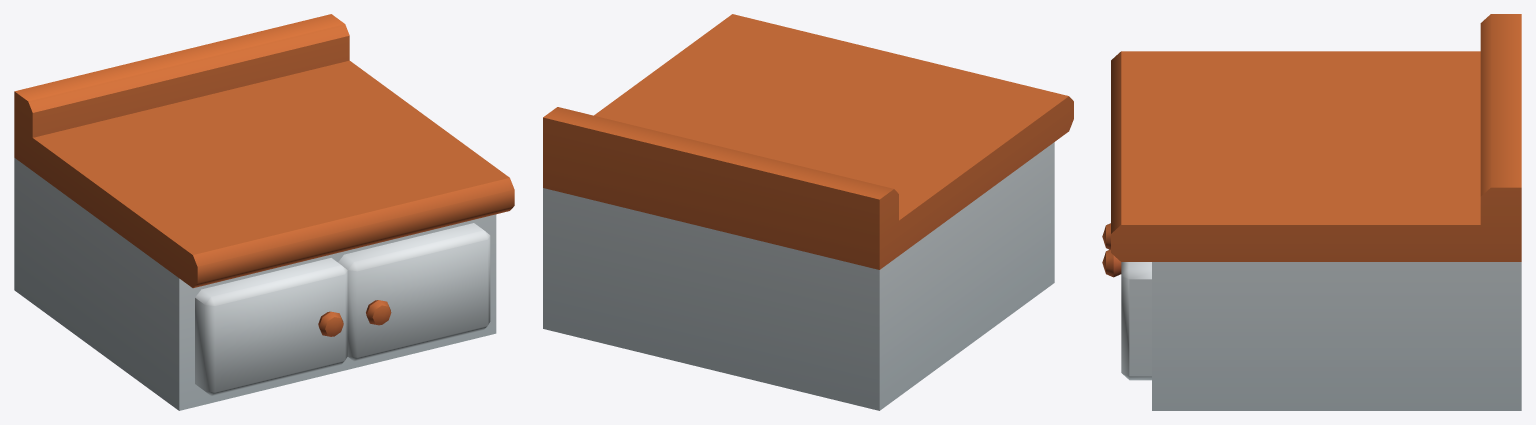
The model's file is kay-kitchencounter_straight_b_backsplash.glb.
The picture shows the model from 3 angles, left to right: view 1: azimuth 30°, elevation 25°; view 2: azimuth 150°, elevation 25°; view 3: azimuth 270°, elevation 25°; orthographic projection. The views are drawn at different scales.
Parts seen in each view (by area): view 1: kitchencounter_straight_B_backsplash; view 2: kitchencounter_straight_B_backsplash; view 3: kitchencounter_straight_B_backsplash.
Boxes of the visible parts, box(x1,y1,x2,y2) form: kitchencounter_straight_B_backsplash: box(14, 14, 514, 410); kitchencounter_straight_B_backsplash: box(543, 14, 1073, 410); kitchencounter_straight_B_backsplash: box(1102, 14, 1521, 410).
Size of the model in its own units: 1.18 by 0.7052 by 1.2.
Materials: 1 (1 with a texture image).
